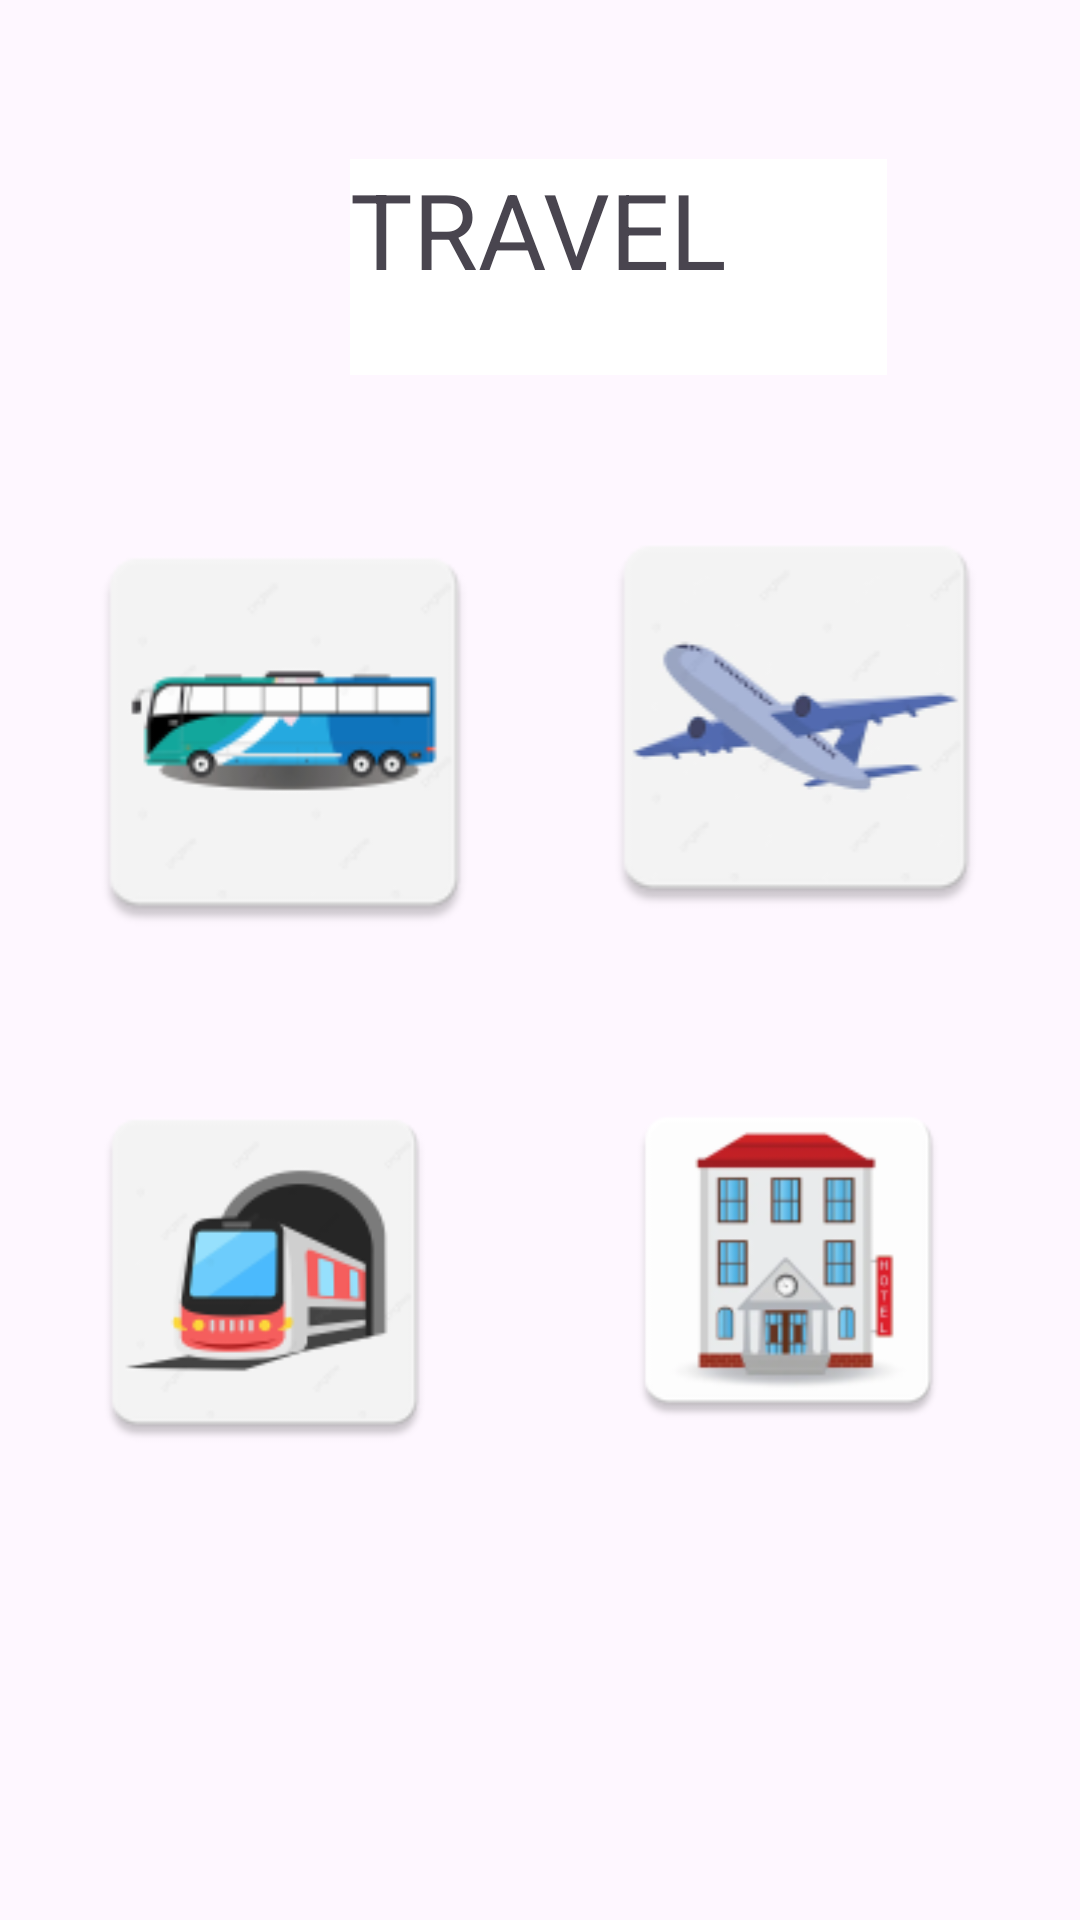

Named icons in this screenshot (1080 × 1920) and their centers, point (x, y):
bus: point (284, 740)
flight: point (795, 725)
train: point (264, 1279)
